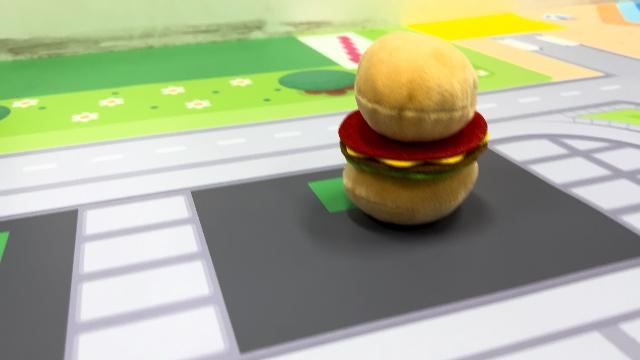burger: (333, 27, 493, 229)
